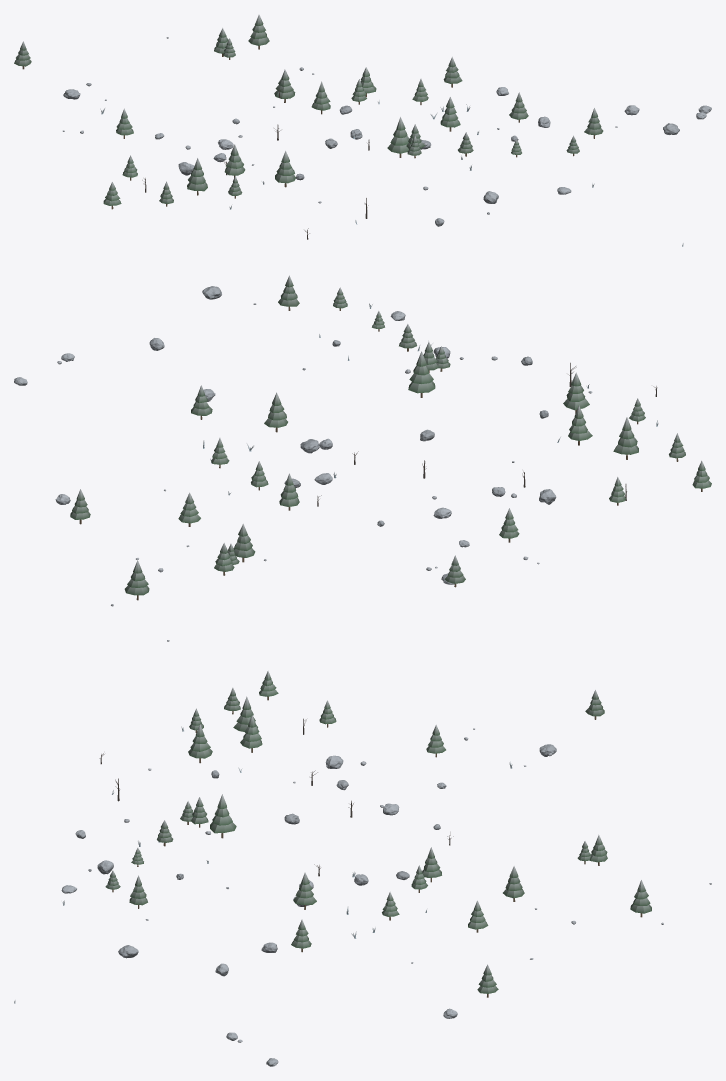
Rendered from frost_land_scatter_c13_12.glb.
3 renders of one model, top to bottom at view 1: azimuth 30°, elevation 25°; view 2: azimuth 150°, elevation 25°; view 3: azimuth 270°, elevation 25°, orthographic. The views are drawn at different scales.
Visible parts, largest first — view 1: frost_land_scatter_c13_12; view 2: frost_land_scatter_c13_12; view 3: frost_land_scatter_c13_12.
Boxes of the visible parts, x1,y1,x2,y2 form: frost_land_scatter_c13_12: (14, 14, 711, 246); frost_land_scatter_c13_12: (14, 275, 711, 641); frost_land_scatter_c13_12: (14, 670, 711, 1066).
Size of the model in its own units: 252 by 44.27 by 233.
